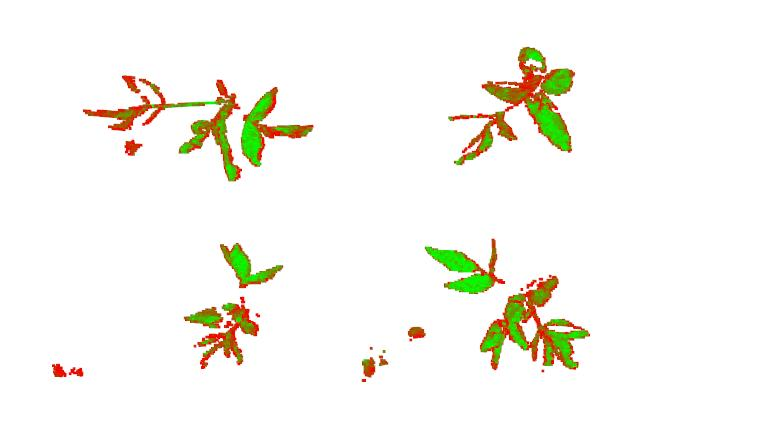mungbean: (83, 69, 320, 185), (422, 233, 594, 378), (452, 37, 587, 171), (178, 241, 281, 371)
